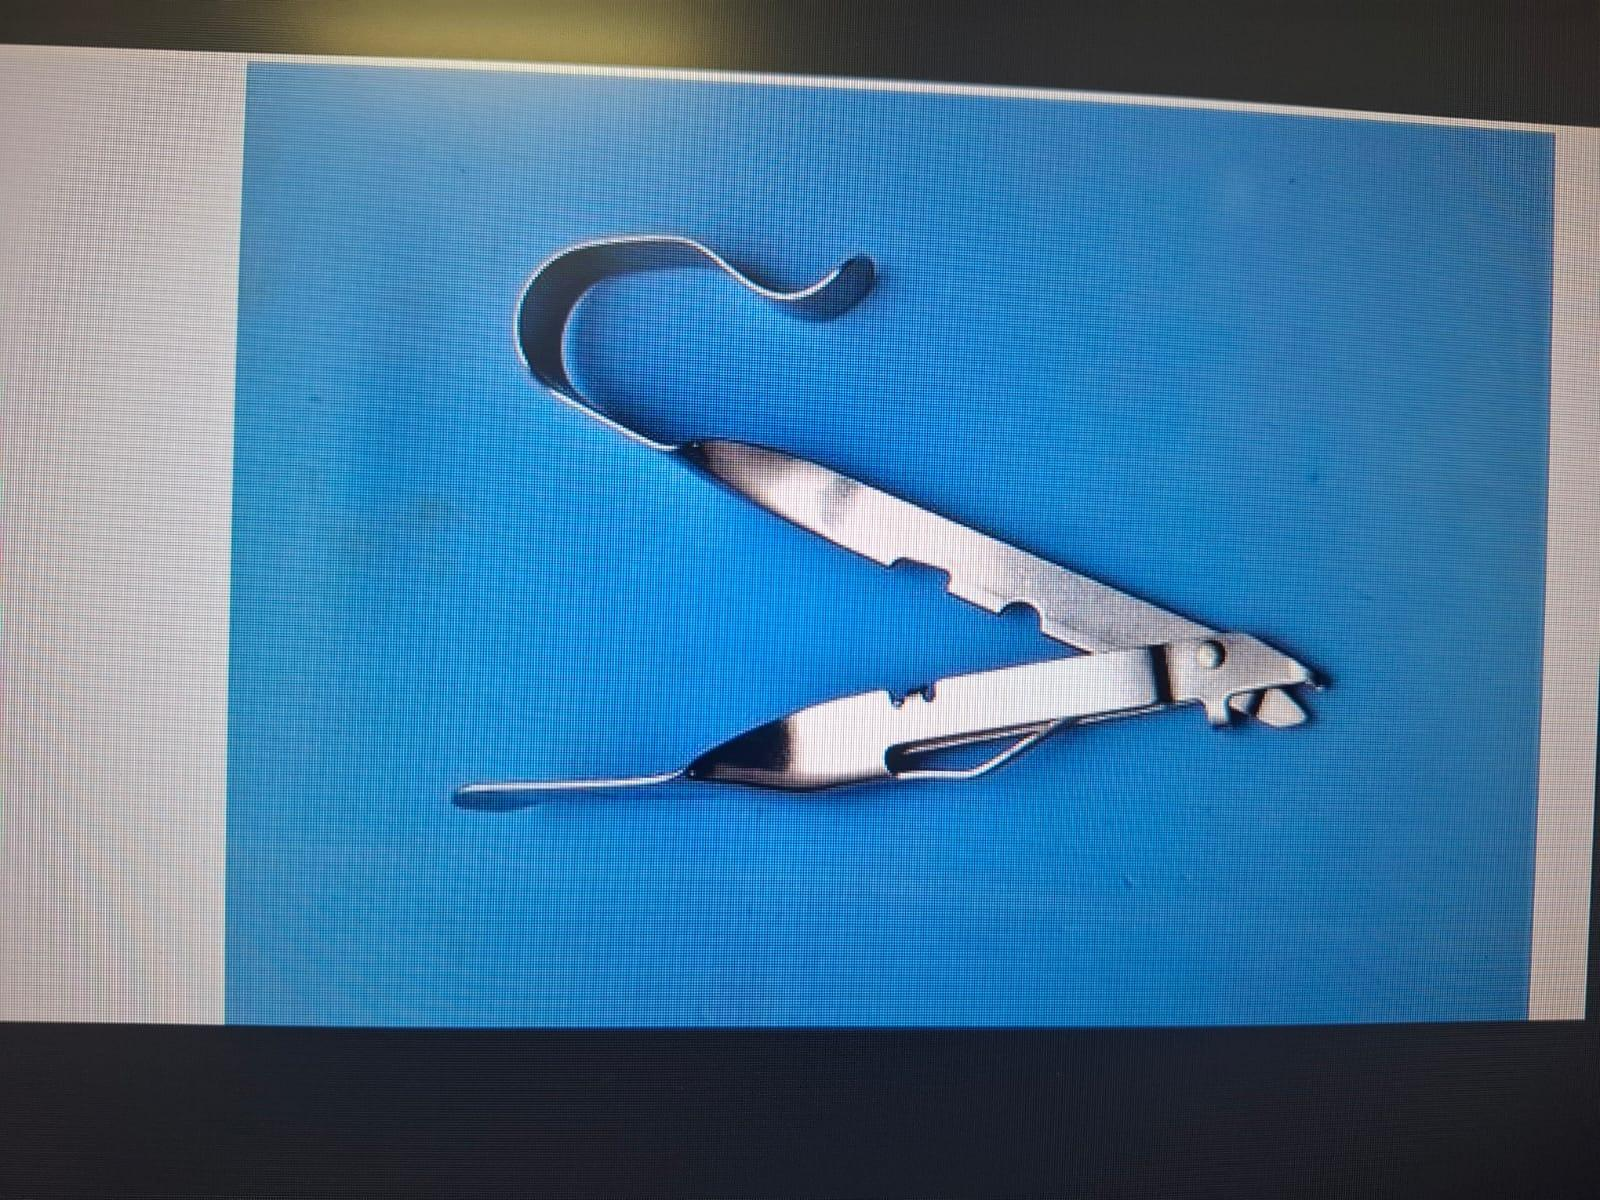Stapler Remover: (442, 208, 1342, 852)
